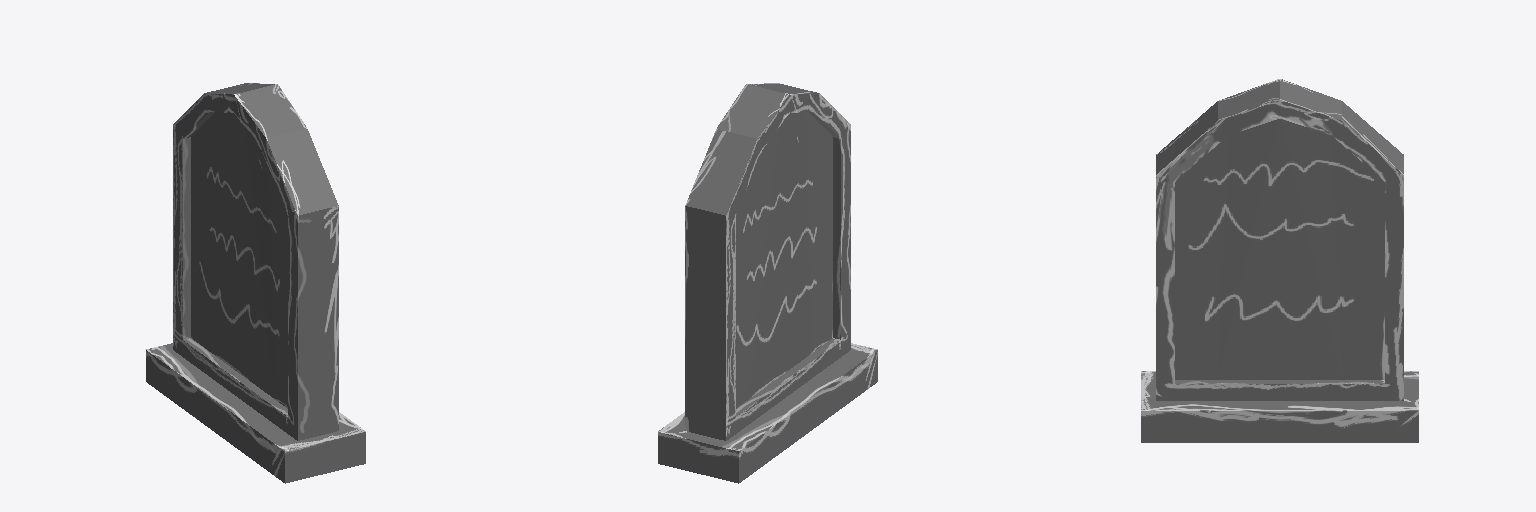
3 views of the same model, side by side, from view 1: azimuth 30°, elevation 25°; view 2: azimuth 150°, elevation 25°; view 3: azimuth 270°, elevation 25° (orthographic).
Visible parts, largest first — view 1: Cube_Cube.001; view 2: Cube_Cube.001; view 3: Cube_Cube.001.
Boxes of the visible parts, box(x1,y1,x2,y2) form: Cube_Cube.001: box(146, 83, 365, 483); Cube_Cube.001: box(658, 83, 877, 483); Cube_Cube.001: box(1141, 79, 1418, 442).
Size of the model in its own units: 0.7561 by 2.96 by 2.24.
Materials: 1 (1 with a texture image).